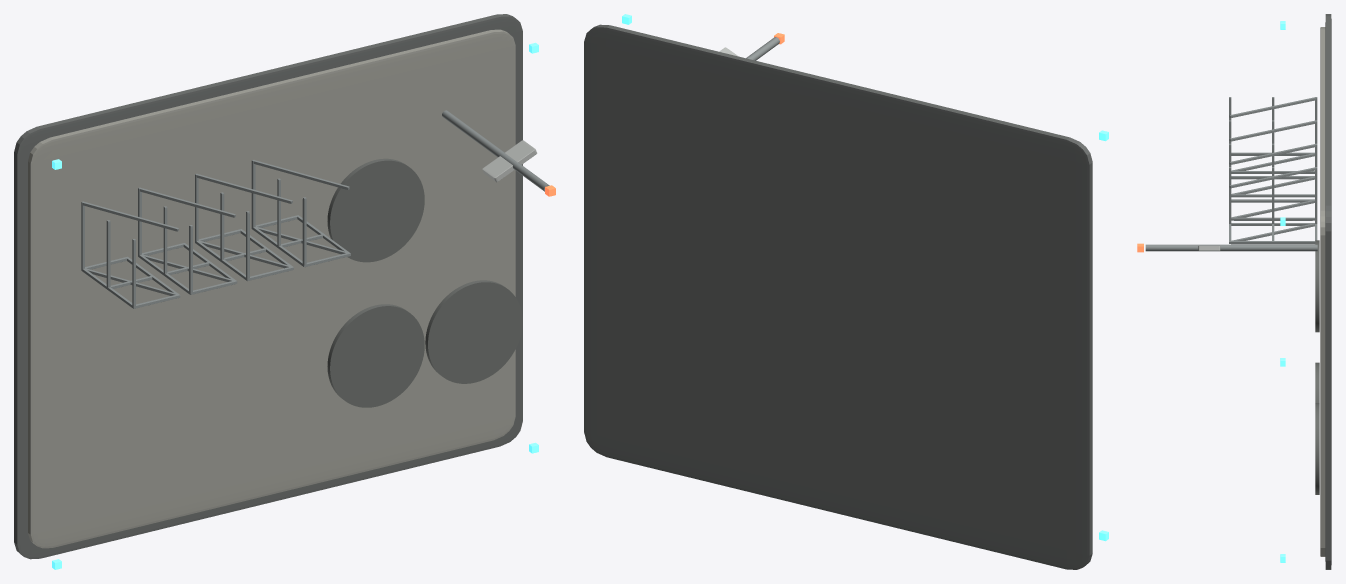
The model's file is b-20-drone-bay-lod2.glb.
The picture shows the model from 3 angles, left to right: view 1: azimuth 30°, elevation 25°; view 2: azimuth 150°, elevation 25°; view 3: azimuth 270°, elevation 25°; orthographic projection. The views are drawn at different scales.
Visible parts, largest first — view 1: foundation_inner_pad, foundation, drone_pad_0, drone_pad_1, drone_pad_2, drone_telecom_mast_main, drone_telecom_mast_array_1; view 2: foundation; view 3: foundation, foundation_inner_pad, drone_telecom_mast_main, drone_pad_1, drone_pad_2, drone_rack_1_brace_a_1, drone_rack_3_brace_a_1, drone_rack_2_brace_a_1, drone_rack_0_brace_a_1, drone_rack_3_column_e_s, drone_rack_1_column_e_s, drone_rack_2_column_w_s (+6 smaller).
Part boxes in pixels (x1,y1,x2,y2): foundation_inner_pad: [28, 29, 515, 548]; foundation: [14, 14, 522, 559]; drone_pad_0: [327, 304, 424, 407]; drone_pad_1: [425, 280, 522, 383]; drone_pad_2: [327, 158, 424, 262]; drone_telecom_mast_main: [442, 110, 549, 191]; drone_telecom_mast_array_1: [482, 140, 537, 182]; foundation: [584, 24, 1092, 569]; foundation: [1325, 14, 1331, 569]; foundation_inner_pad: [1320, 27, 1325, 556]; drone_telecom_mast_main: [1145, 244, 1317, 251]; drone_pad_1: [1315, 403, 1319, 494]; drone_pad_2: [1315, 240, 1319, 332]; drone_rack_1_brace_a_1: [1229, 120, 1316, 141]; drone_rack_3_brace_a_1: [1229, 167, 1316, 188]; drone_rack_2_brace_a_1: [1229, 144, 1316, 164]; drone_rack_0_brace_a_1: [1229, 97, 1316, 117]; drone_rack_3_column_e_s: [1231, 241, 1314, 244]; drone_rack_1_column_e_s: [1231, 194, 1314, 197]; drone_rack_2_column_w_s: [1231, 199, 1314, 202].
Size of what is drawn, in the model's own units: 16 by 13 by 6.32.
